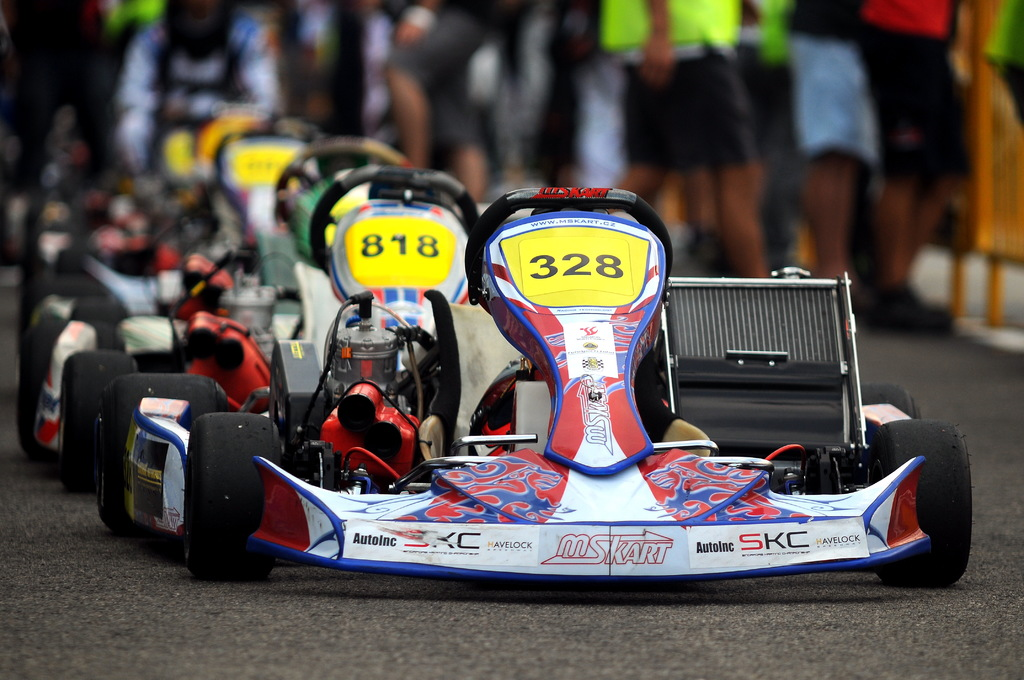Car: (11, 100, 970, 589), (92, 157, 494, 550), (57, 142, 430, 505)
